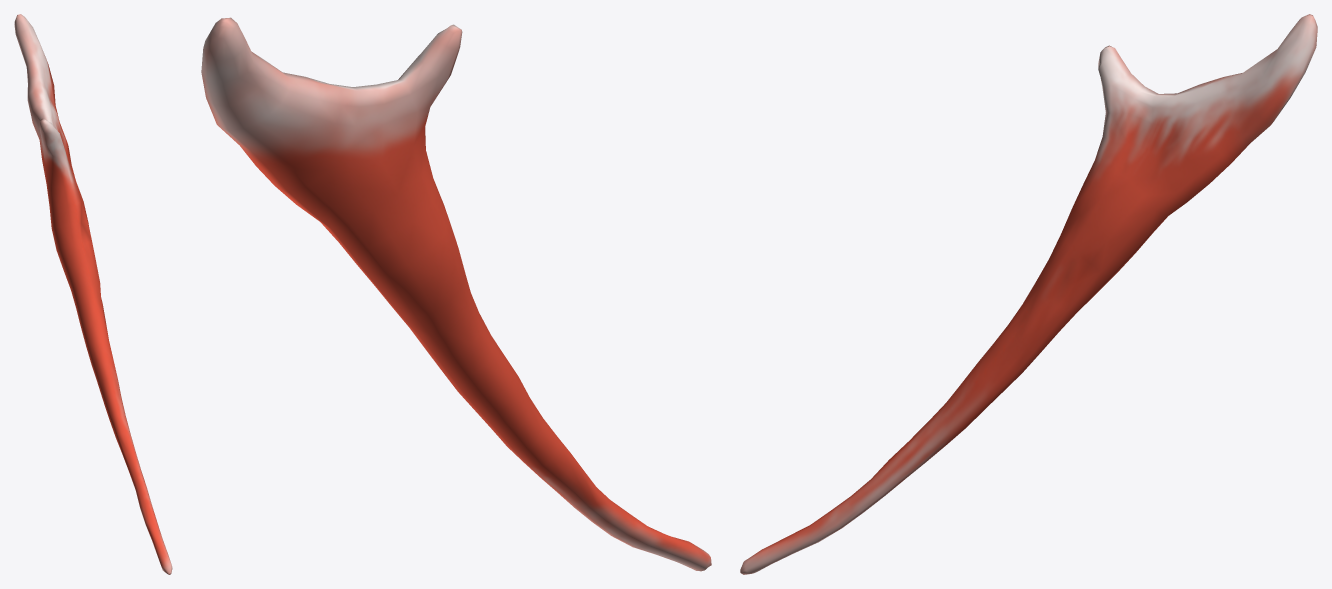
File: Zygomaticus.glb
The picture shows the model from 3 angles, left to right: view 1: azimuth 30°, elevation 25°; view 2: azimuth 150°, elevation 25°; view 3: azimuth 270°, elevation 25°; orthographic projection. The views are drawn at different scales.
Visible parts, largest first — view 1: Zygomaticus.glb; view 2: Zygomaticus.glb; view 3: Zygomaticus.glb.
Part boxes in pixels (<box>): Zygomaticus.glb: <box>14,14,172,574</box>; Zygomaticus.glb: <box>201,17,711,571</box>; Zygomaticus.glb: <box>740,14,1317,574</box>.
Size of the model in its own units: 0.0395 by 0.2257 by 0.1998.
1 material, 1 textured.
